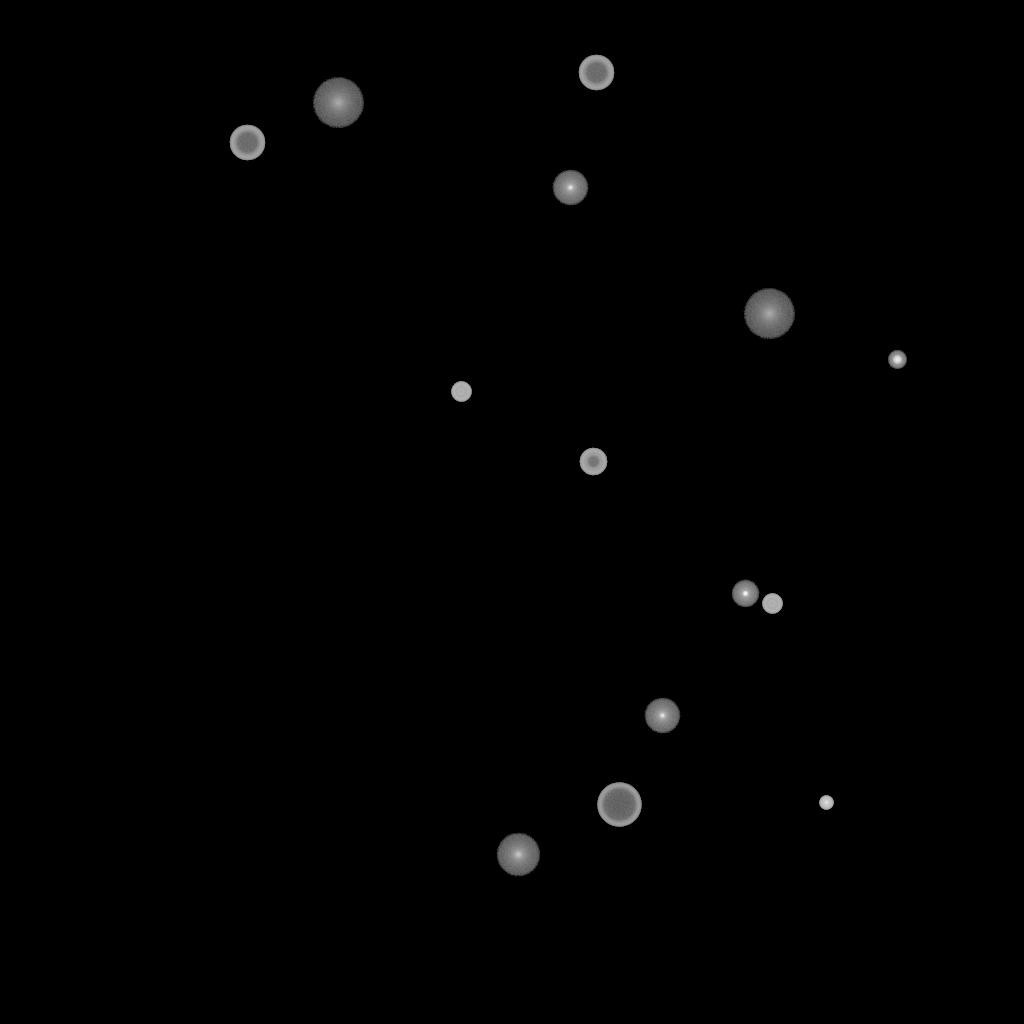depth:-10: (731, 580, 759, 608)
depth:-20: (888, 351, 906, 369)
depth:-30: (819, 796, 833, 810)
depth:-40: (451, 382, 471, 402), (762, 594, 782, 614)
depth:-50: (579, 448, 607, 476)
depth:-60: (229, 125, 265, 161), (578, 55, 614, 91)
depth:-70: (597, 783, 641, 827)
depth:0: (552, 170, 588, 206), (644, 698, 680, 734)
depth:10: (496, 833, 540, 877)
depth:20: (312, 78, 364, 128), (743, 289, 795, 339)
